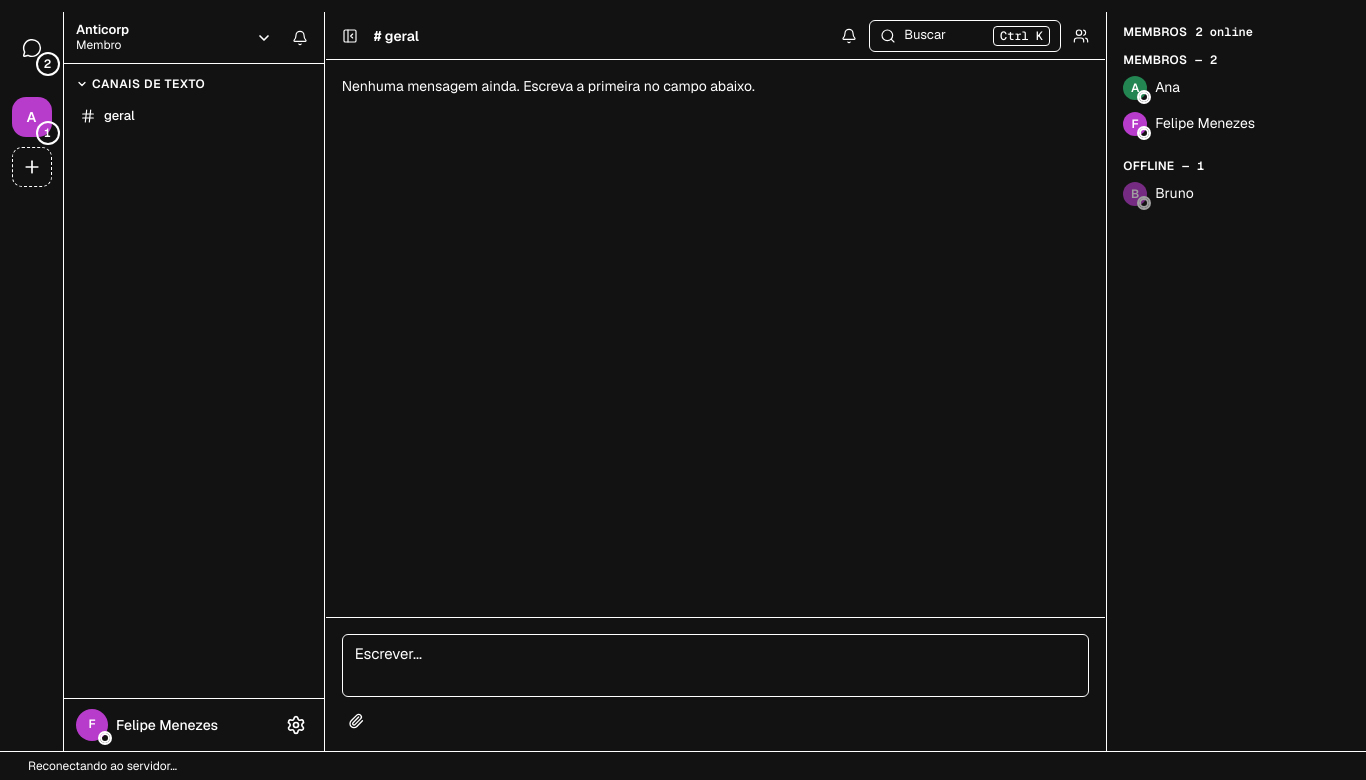
Test case: conversas no desktop › abrir Conversas troca a coluna de canais pela lista de conversas
Click the button named "Conversas (2 não lidas)" at (32, 48), box 8,24 -> 56,72
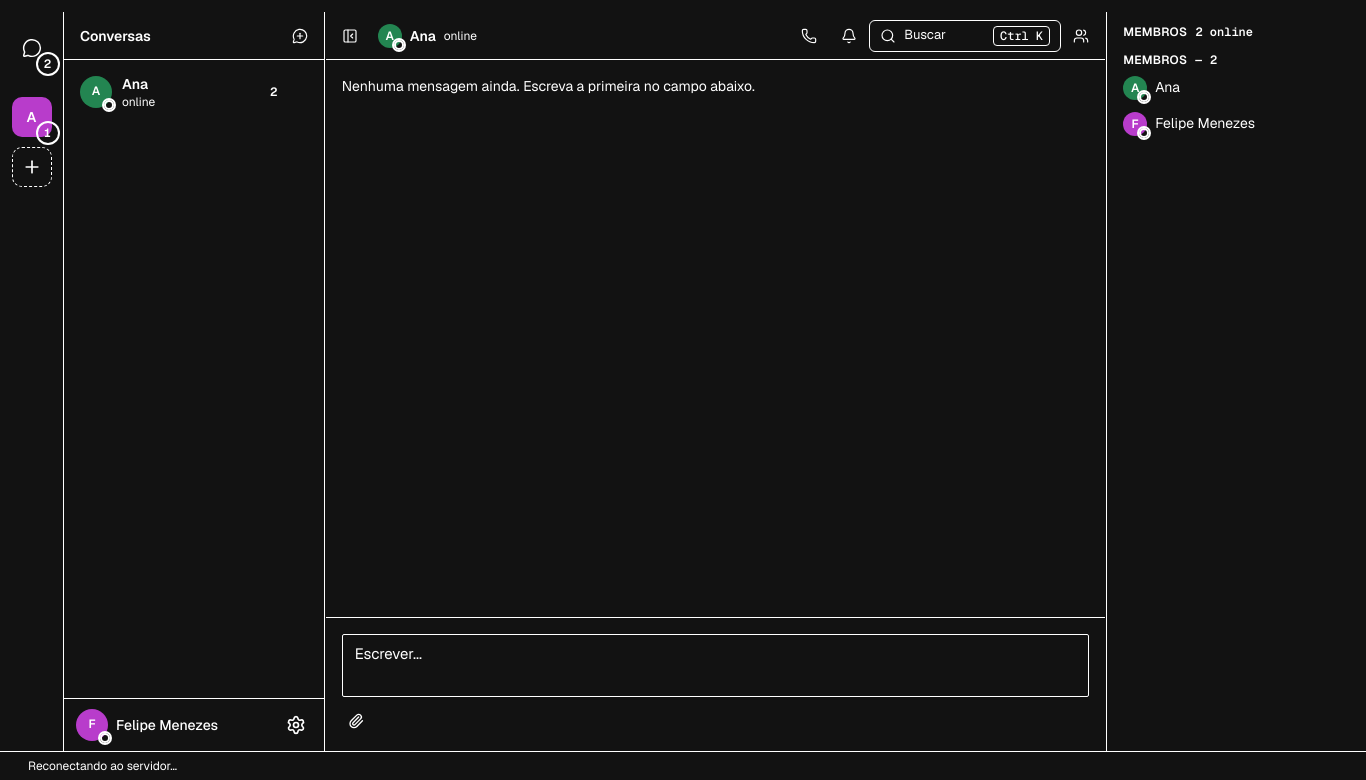
Expected: the 3rd button named "Ligar para Ana" is shown, 793,20 -> 825,52
Now the button with aria-label "Ana, 2 não lidas" is shown, box 72,68 -> 316,116
